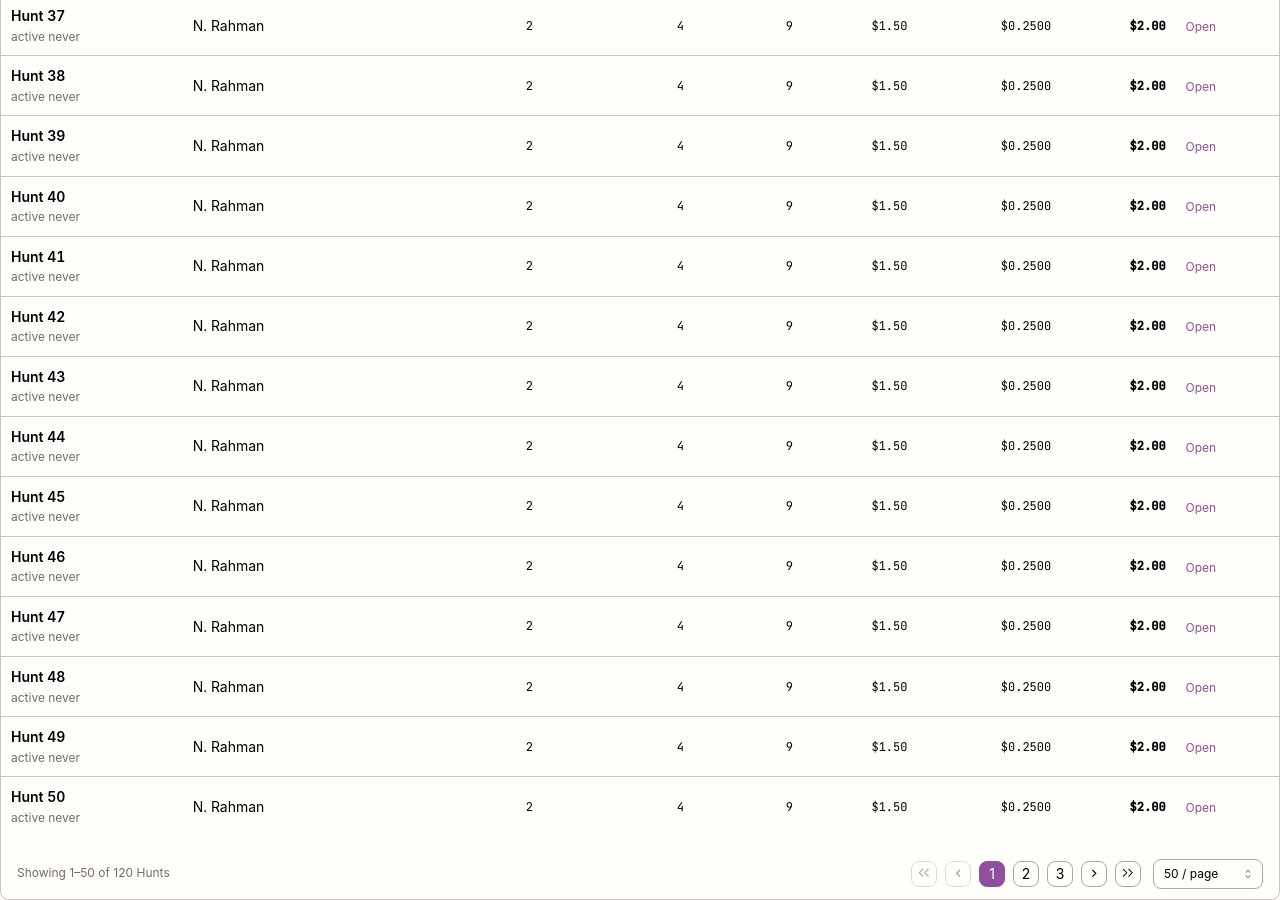
Scenario: AdminHuntsPage › fetches the next page rather than slicing one it already has
This screenshot has width=1280, height=900.
(page scrolled)
Click the button "3" at (1060,874), box 1047,861 -> 1073,887
(page scrolled)
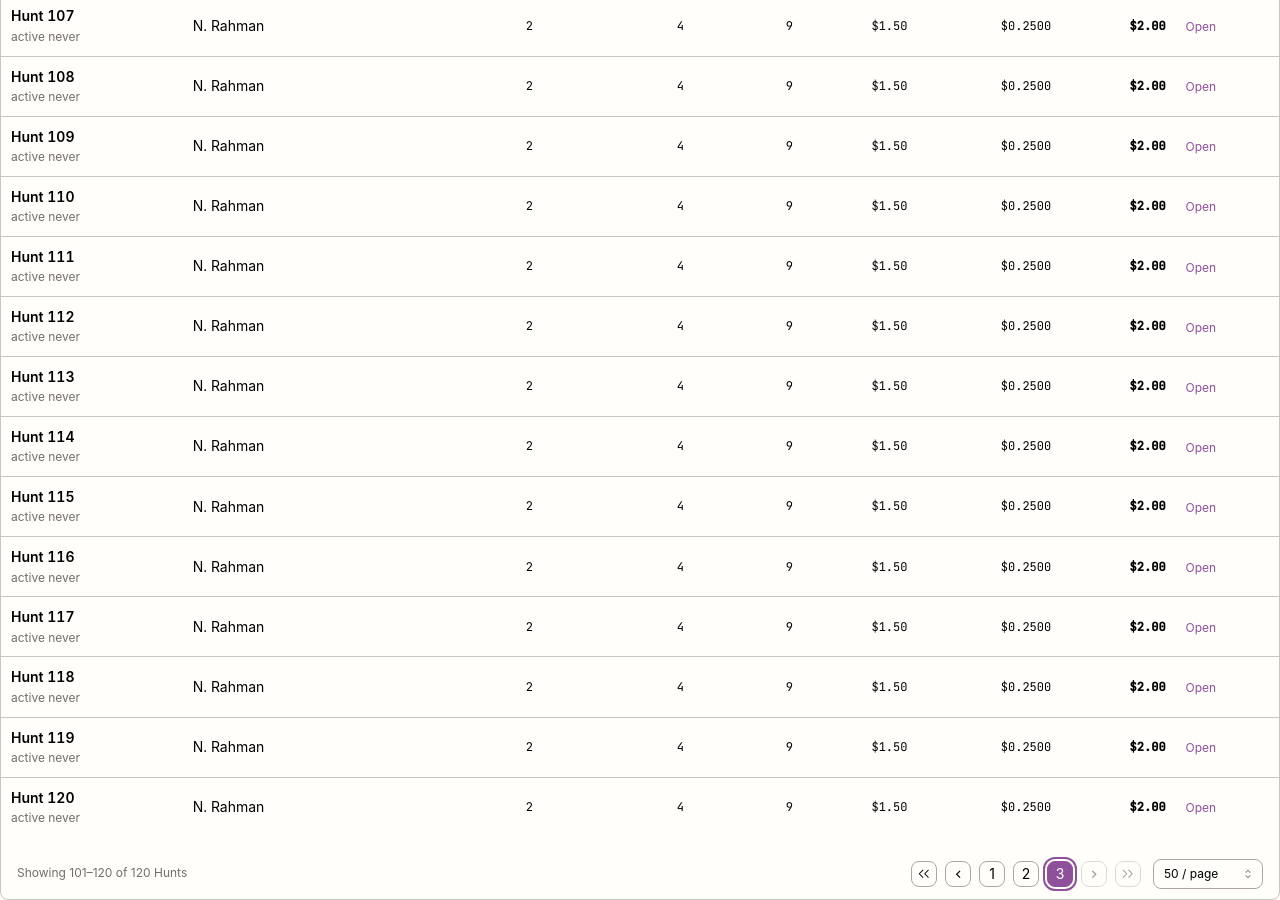
Expected: the text "Showing 101–120 of 120 Hunts" is shown, 17,865 -> 187,882
